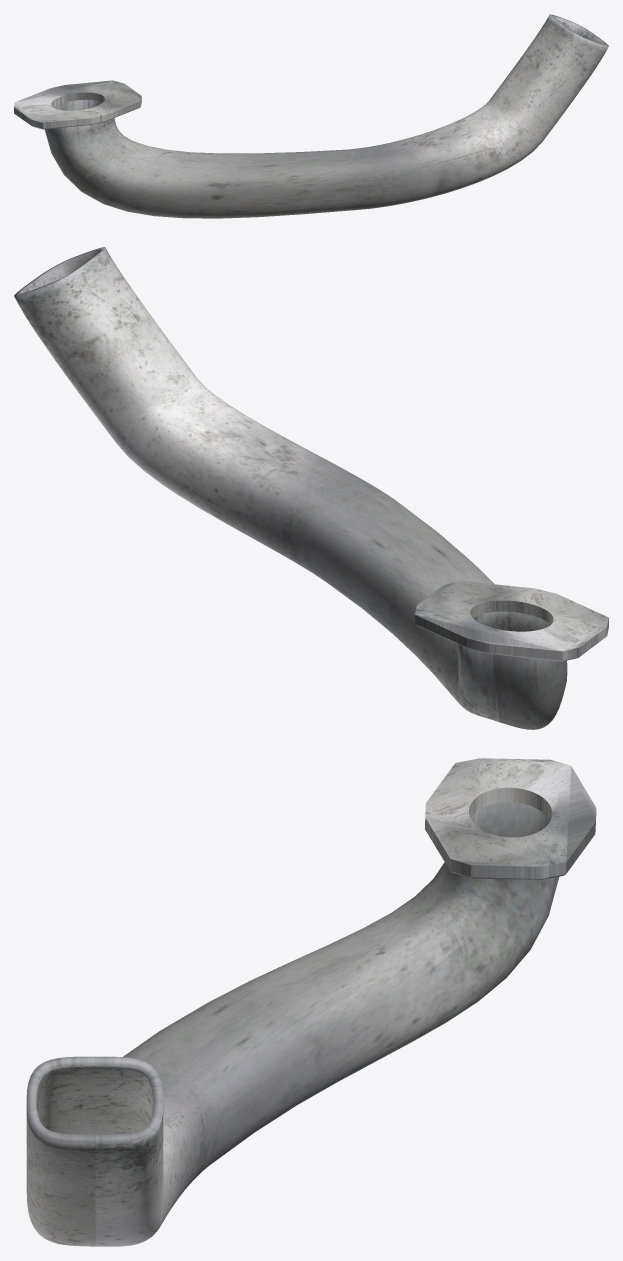
The model's file is turboSmall_exhaust_inlet_tube.obj.
3 renders of one model, top to bottom at view 1: azimuth 30°, elevation 25°; view 2: azimuth 150°, elevation 25°; view 3: azimuth 270°, elevation 25°, orthographic. The views are drawn at different scales.
Visible parts, largest first — view 1: TurboSmall-Exhaust-Inlet-Tube___BezierCurve.013, TurboSmall-Exhaust-Inlet-Tube-Header-Connector_Plane.005; view 2: TurboSmall-Exhaust-Inlet-Tube___BezierCurve.013, TurboSmall-Exhaust-Inlet-Tube-Header-Connector_Plane.005; view 3: TurboSmall-Exhaust-Inlet-Tube___BezierCurve.013, TurboSmall-Exhaust-Inlet-Tube-Header-Connector_Plane.005.
Part boxes in pixels (box(x1,y1,x2,y2)): TurboSmall-Exhaust-Inlet-Tube___BezierCurve.013: box(44, 14, 608, 218); TurboSmall-Exhaust-Inlet-Tube-Header-Connector_Plane.005: box(14, 80, 141, 129); TurboSmall-Exhaust-Inlet-Tube___BezierCurve.013: box(14, 247, 567, 729); TurboSmall-Exhaust-Inlet-Tube-Header-Connector_Plane.005: box(415, 581, 608, 661); TurboSmall-Exhaust-Inlet-Tube___BezierCurve.013: box(26, 802, 559, 1246); TurboSmall-Exhaust-Inlet-Tube-Header-Connector_Plane.005: box(425, 758, 596, 879).
Size of the model in its own units: 0.3392 by 0.107 by 0.1776.
